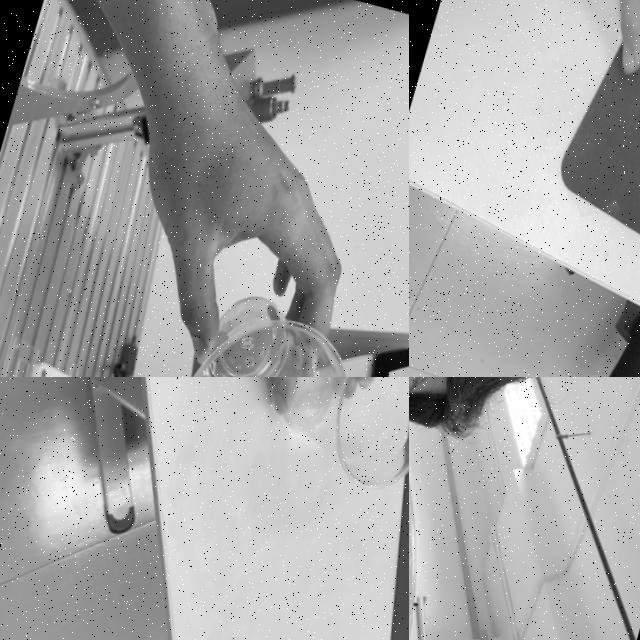glass: (146, 276, 385, 377), (246, 377, 409, 506), (409, 382, 467, 640)
